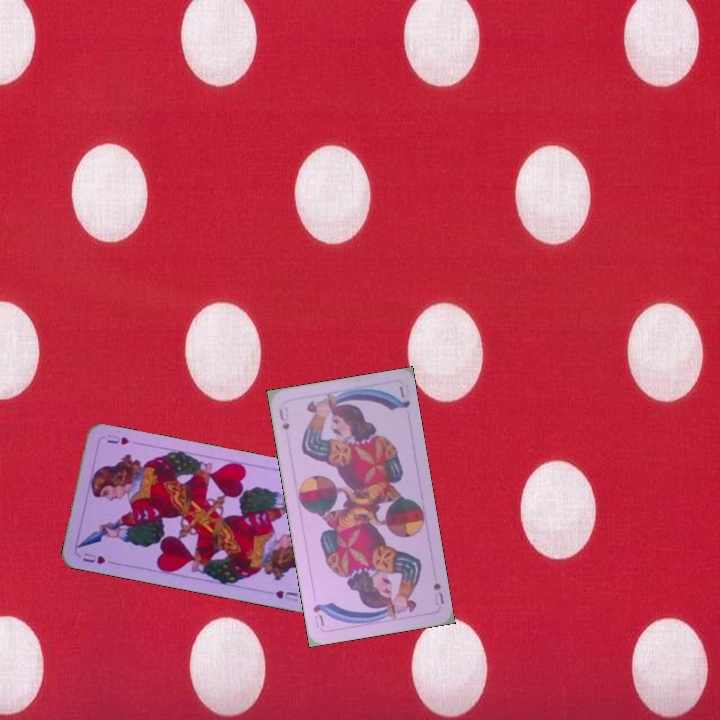HU: (78, 549, 108, 567)
SU: (275, 403, 292, 432), (429, 579, 446, 608)
